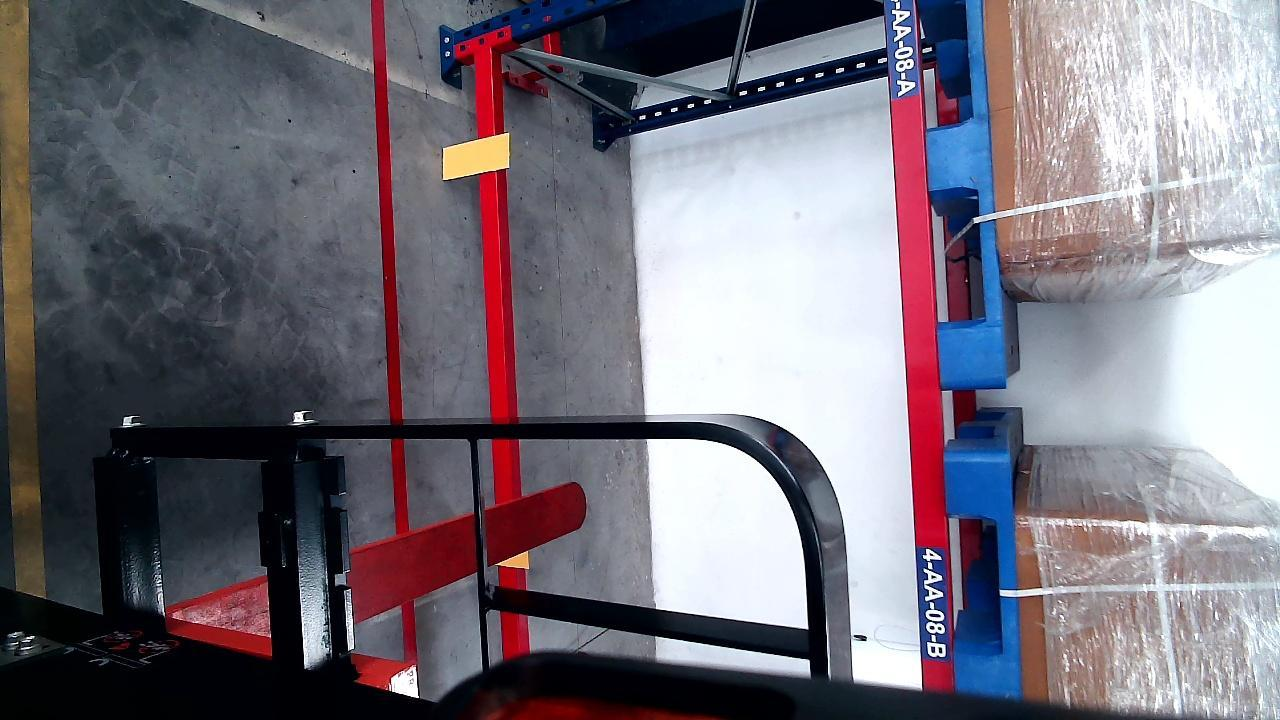red_line: (372, 0, 411, 663)
yellow_line: (2, 2, 41, 601)
